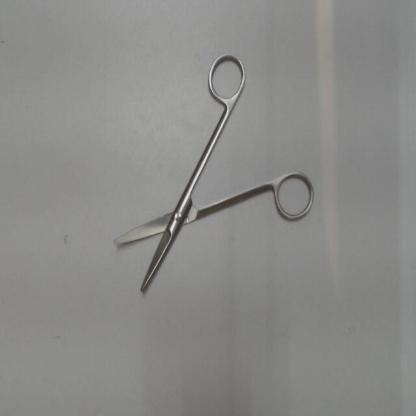Curved Mayo Scissors: (105, 50, 317, 296)
